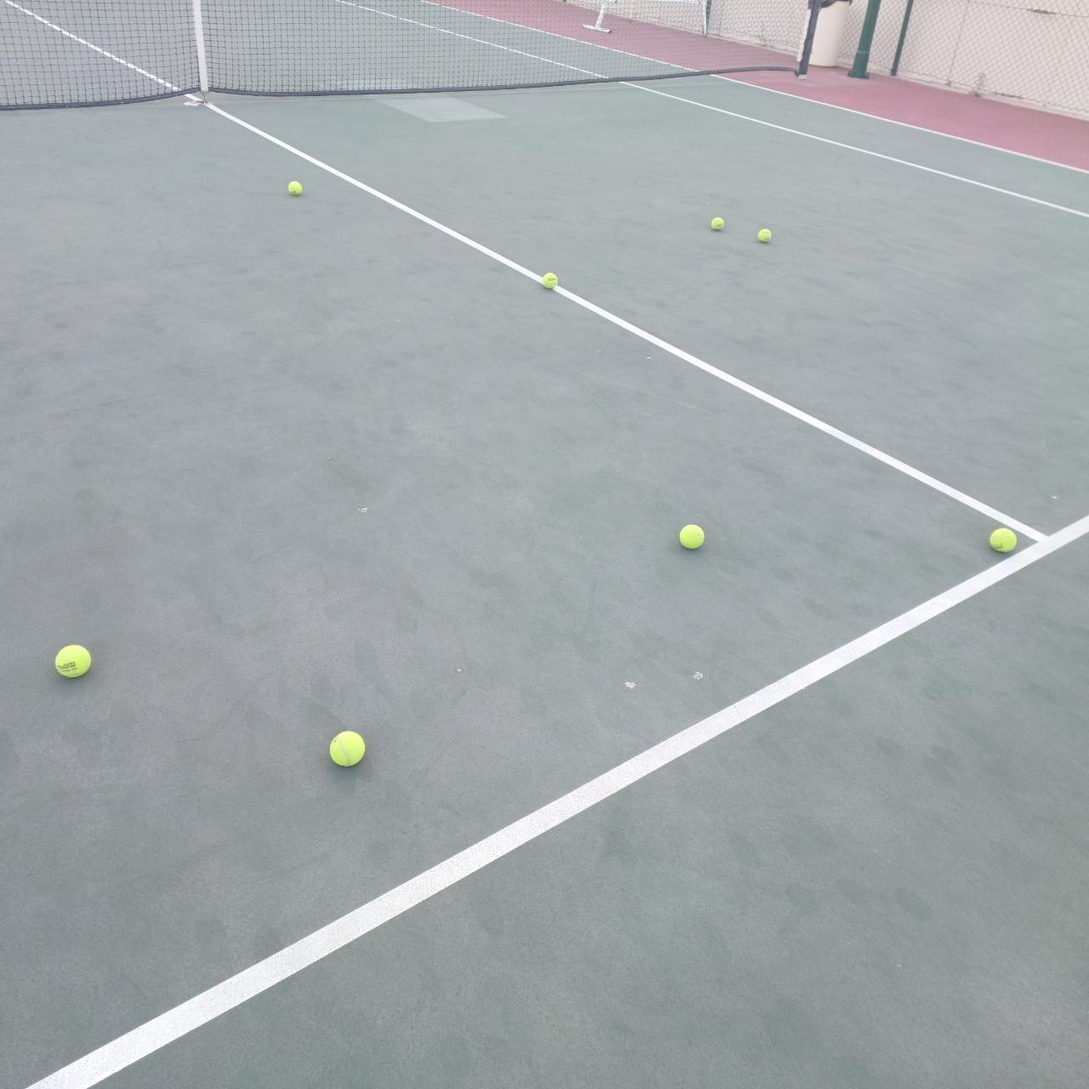tennis-ball: (329, 728, 368, 767), (55, 642, 93, 678), (989, 525, 1018, 553), (679, 522, 707, 550), (541, 270, 560, 289), (288, 179, 305, 196), (710, 214, 726, 231), (757, 226, 774, 242)
